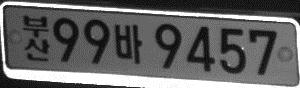4: (186, 26, 215, 72)
5: (219, 27, 246, 73)
7: (249, 28, 277, 76)
9: (52, 17, 79, 63), (83, 18, 110, 64), (155, 22, 181, 69)
바: (115, 24, 143, 64)
부산_V: (22, 15, 50, 62)
